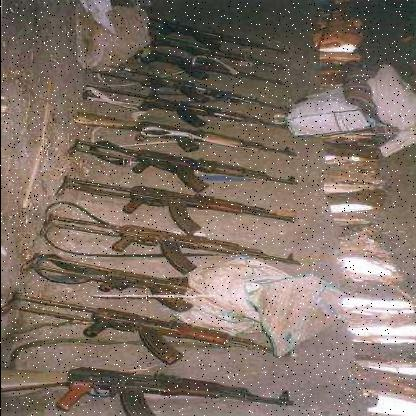rifle: (1, 287, 301, 373), (31, 202, 305, 273), (39, 166, 291, 237), (1, 364, 308, 415), (65, 105, 294, 169), (64, 134, 297, 195), (86, 56, 287, 118), (18, 244, 189, 315), (73, 79, 288, 135)
